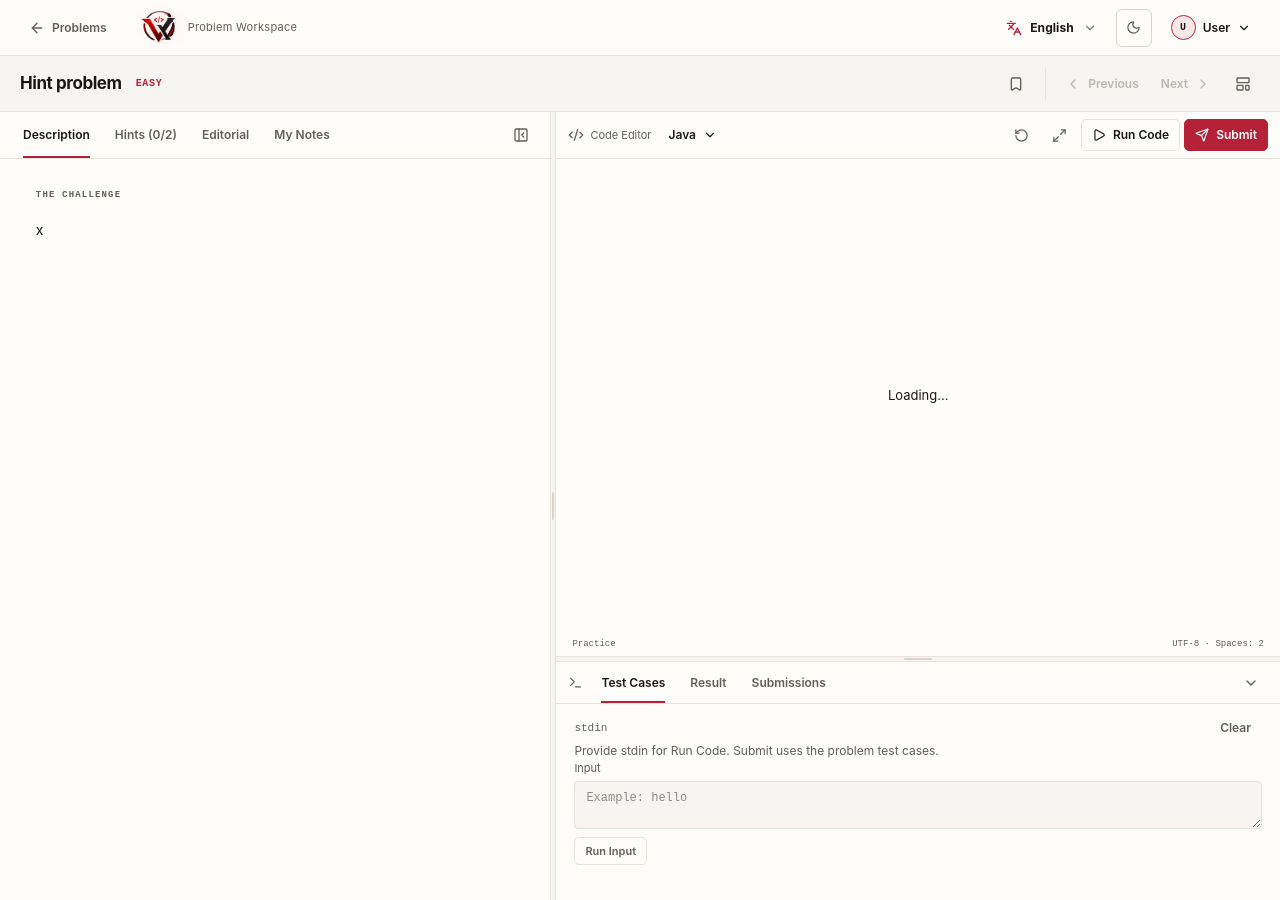
Test: hints show per-hint locked progress without leaking content
Expected: the heading "Hint problem" is shown, [20,72,122,95]
What coordinates should you click on to do the following:
click the tab "Hints (0/2)"
I would click on:
 (146, 135)
Its box is [104,112,188,158].
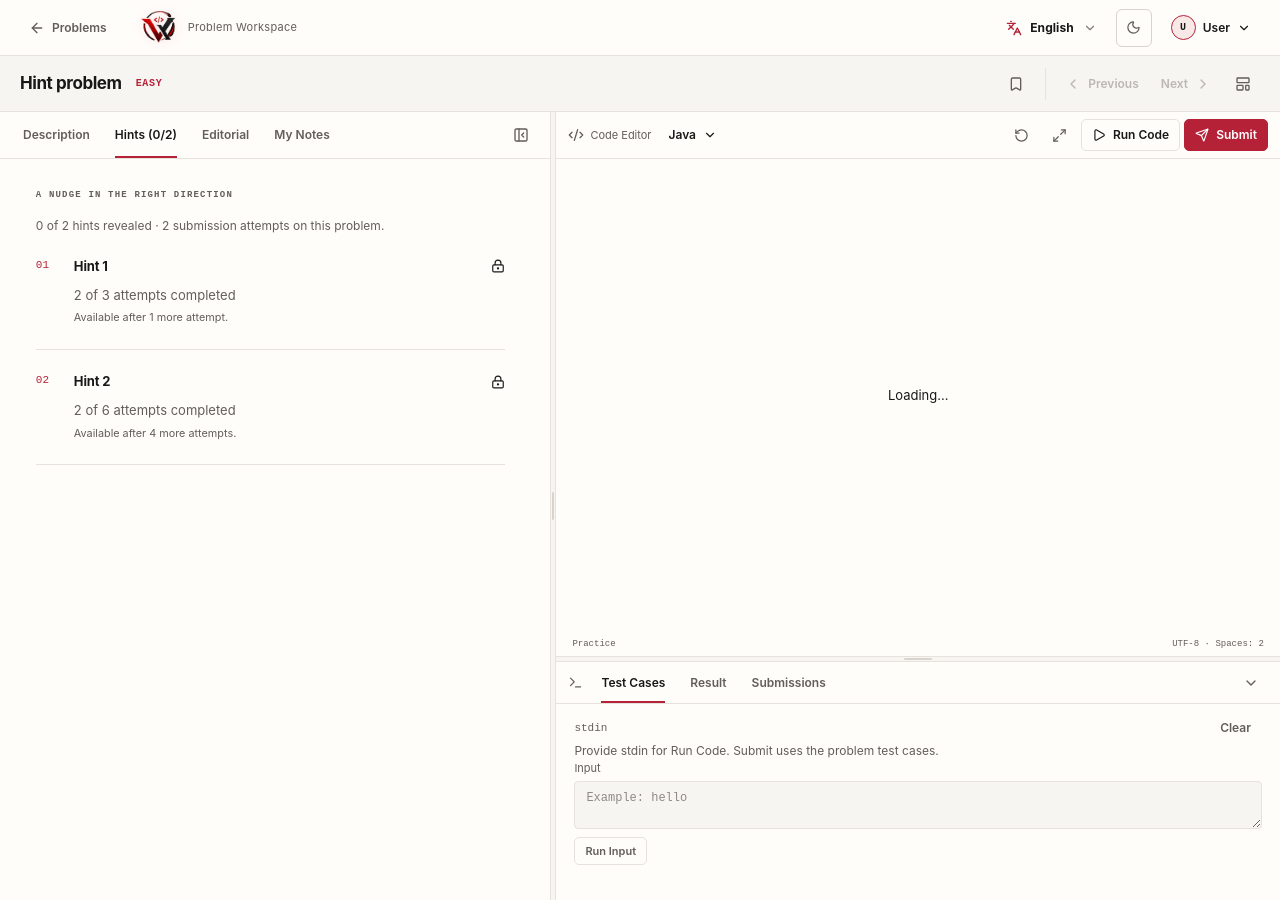
Expected: the text "2 of 3 attempts completed" is shown, [74,287,236,303]
Expected: the text "Available after 1 more attempt." is shown, [74,311,228,324]
